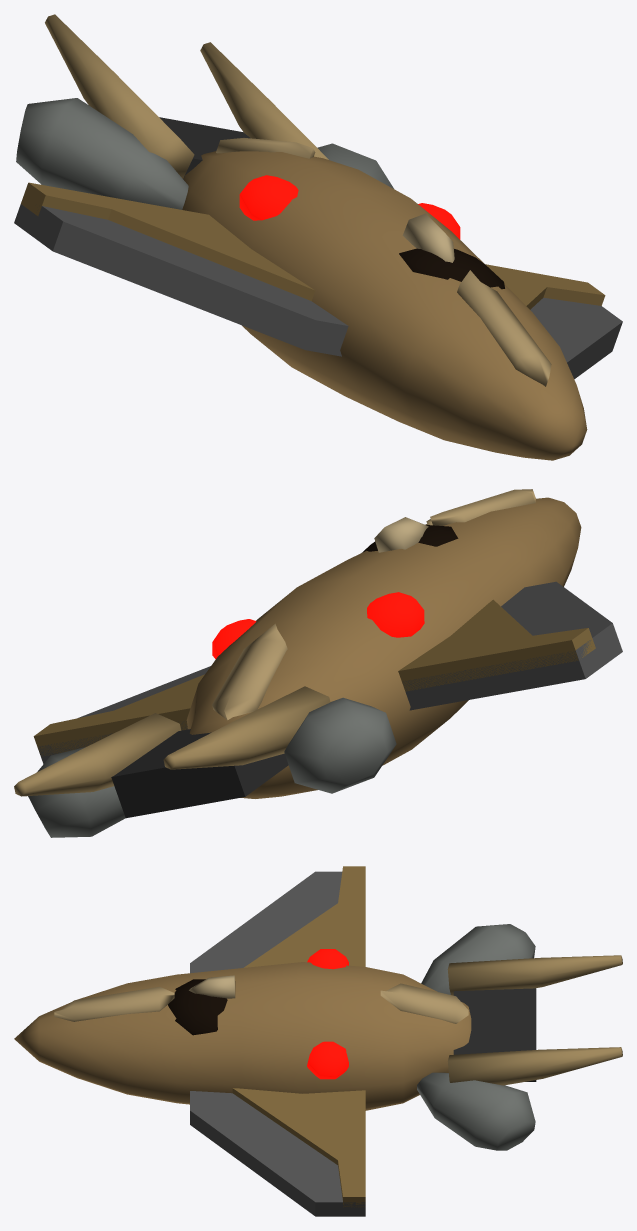
Rendered from newshf-47-f3.glb.
3 renders of one model, top to bottom at view 1: azimuth 30°, elevation 25°; view 2: azimuth 150°, elevation 25°; view 3: azimuth 270°, elevation 25°, orthographic. The views are drawn at different scales.
Parts seen in each view (by area): view 1: newshf-47_f3; view 2: newshf-47_f3; view 3: newshf-47_f3.
Part boxes in pixels (x1,y1,x2,y2): newshf-47_f3: [14, 14, 622, 460]; newshf-47_f3: [14, 489, 622, 837]; newshf-47_f3: [14, 866, 622, 1216].
Size of the model in its own units: 1.43 by 0.65 by 2.02.
